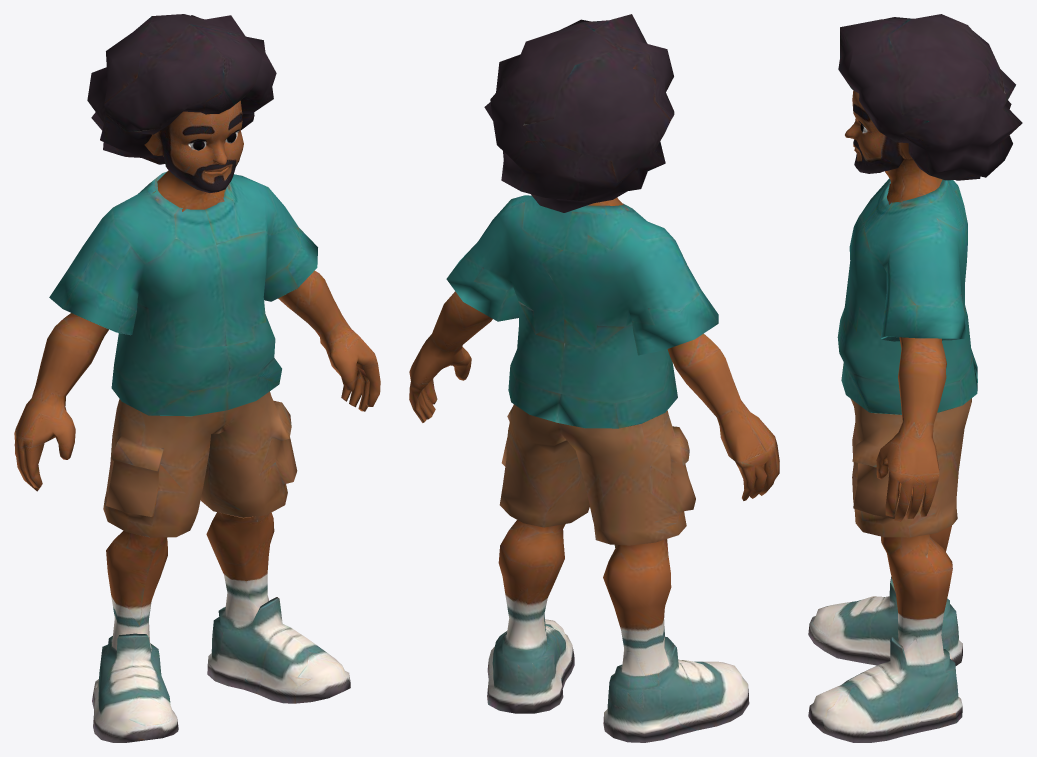
Rendered from Teal_Wanderer.glb.
3 views of the same model, side by side, from view 1: azimuth 30°, elevation 25°; view 2: azimuth 150°, elevation 25°; view 3: azimuth 270°, elevation 25° (orthographic).
Visible parts, largest first — view 1: geometry_0; view 2: geometry_0; view 3: geometry_0.
Boxes of the visible parts, <box> form: geometry_0: <box>14,14,380,742</box>; geometry_0: <box>409,14,779,742</box>; geometry_0: <box>808,14,1022,742</box>.
Bounding box in the file's own units: 0.5566 × 1 × 0.2927.
Materials: 1 (1 with a texture image).
